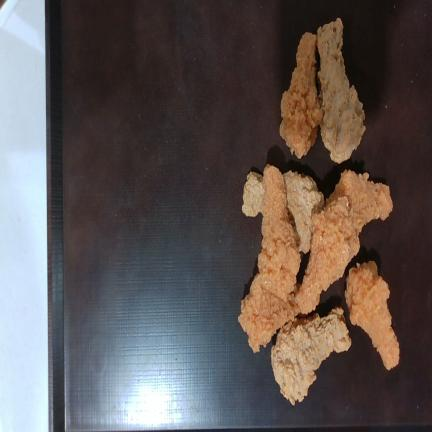chicken: (271, 307, 351, 405), (295, 197, 360, 314), (318, 18, 365, 163), (345, 260, 399, 370), (280, 32, 322, 158), (258, 165, 300, 290), (326, 170, 393, 234), (238, 278, 295, 352), (283, 171, 324, 253), (242, 172, 264, 217)
